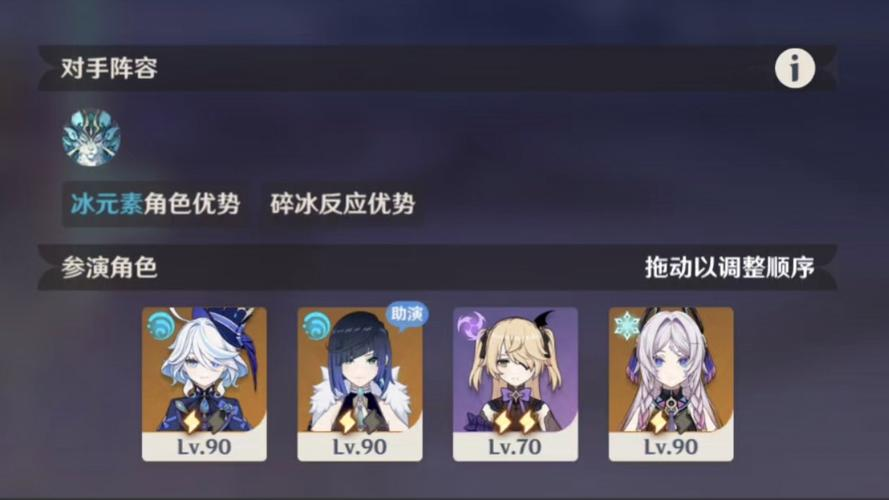夜兰: (298, 312, 414, 437)
